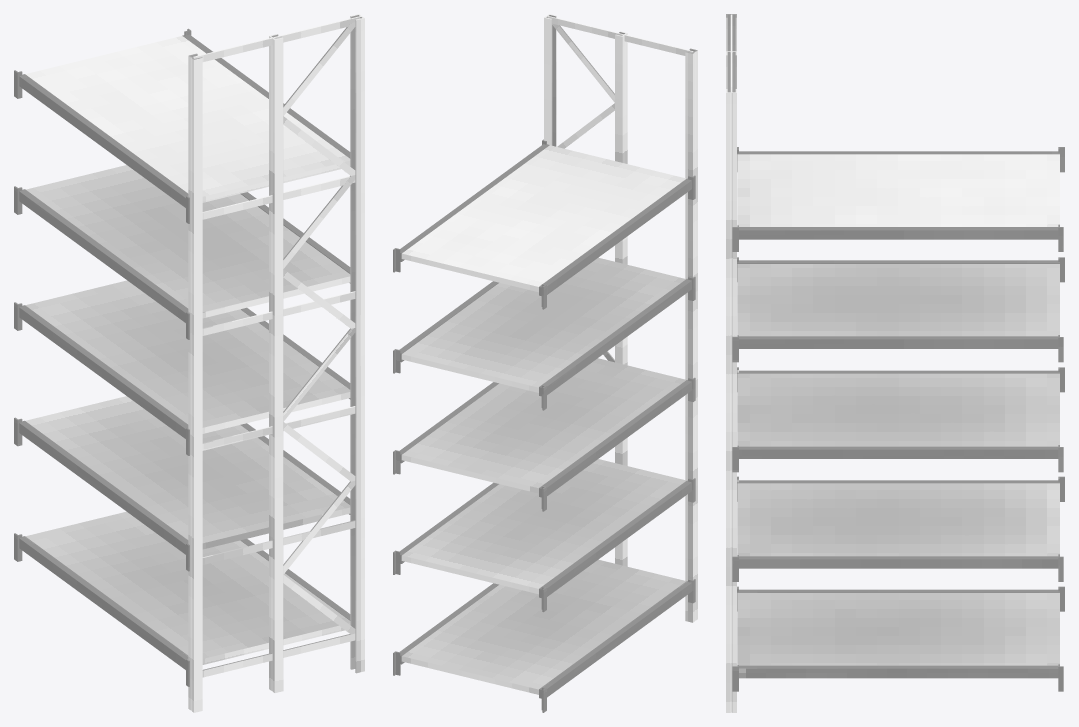
Rendered from StorageRackWideShortNoBoxes.glb.
3 renders of one model, left to right at view 1: azimuth 30°, elevation 25°; view 2: azimuth 150°, elevation 25°; view 3: azimuth 270°, elevation 25°, orthographic. The views are drawn at different scales.
Parts seen in each view (by area): view 1: StorageRackWideShortNoBoxes; view 2: StorageRackWideShortNoBoxes; view 3: StorageRackWideShortNoBoxes.
Boxes of the visible parts, x1=… form: StorageRackWideShortNoBoxes: x1=14, y1=14, x2=364, y2=712; StorageRackWideShortNoBoxes: x1=393, y1=14, x2=697, y2=712; StorageRackWideShortNoBoxes: x1=726, y1=14, x2=1064, y2=712.
Size of the model in its own units: 1.18 by 4.24 by 2.1.
Materials: 1 (1 with a texture image).
